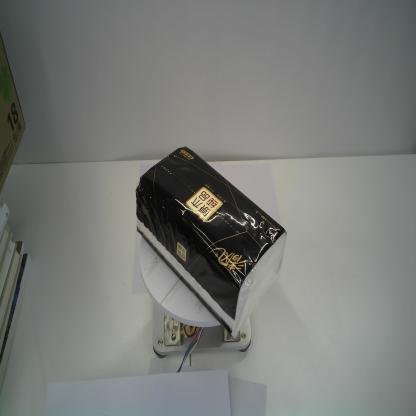Tissue: (135, 146, 286, 339)
